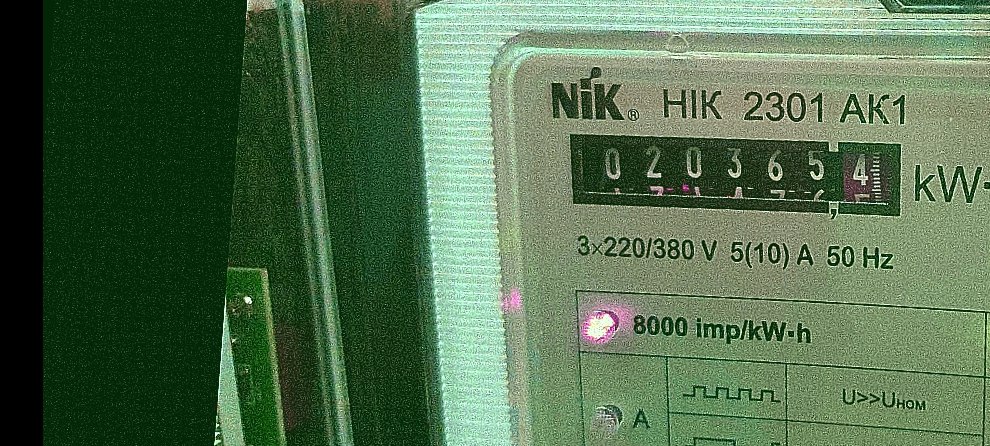0: (684, 143, 706, 180), (602, 145, 625, 180)
2: (642, 142, 666, 180)
3: (725, 143, 746, 179)
4: (851, 150, 872, 186)
5: (806, 147, 828, 181)
6: (765, 146, 787, 182)
screen: (549, 108, 925, 237)
